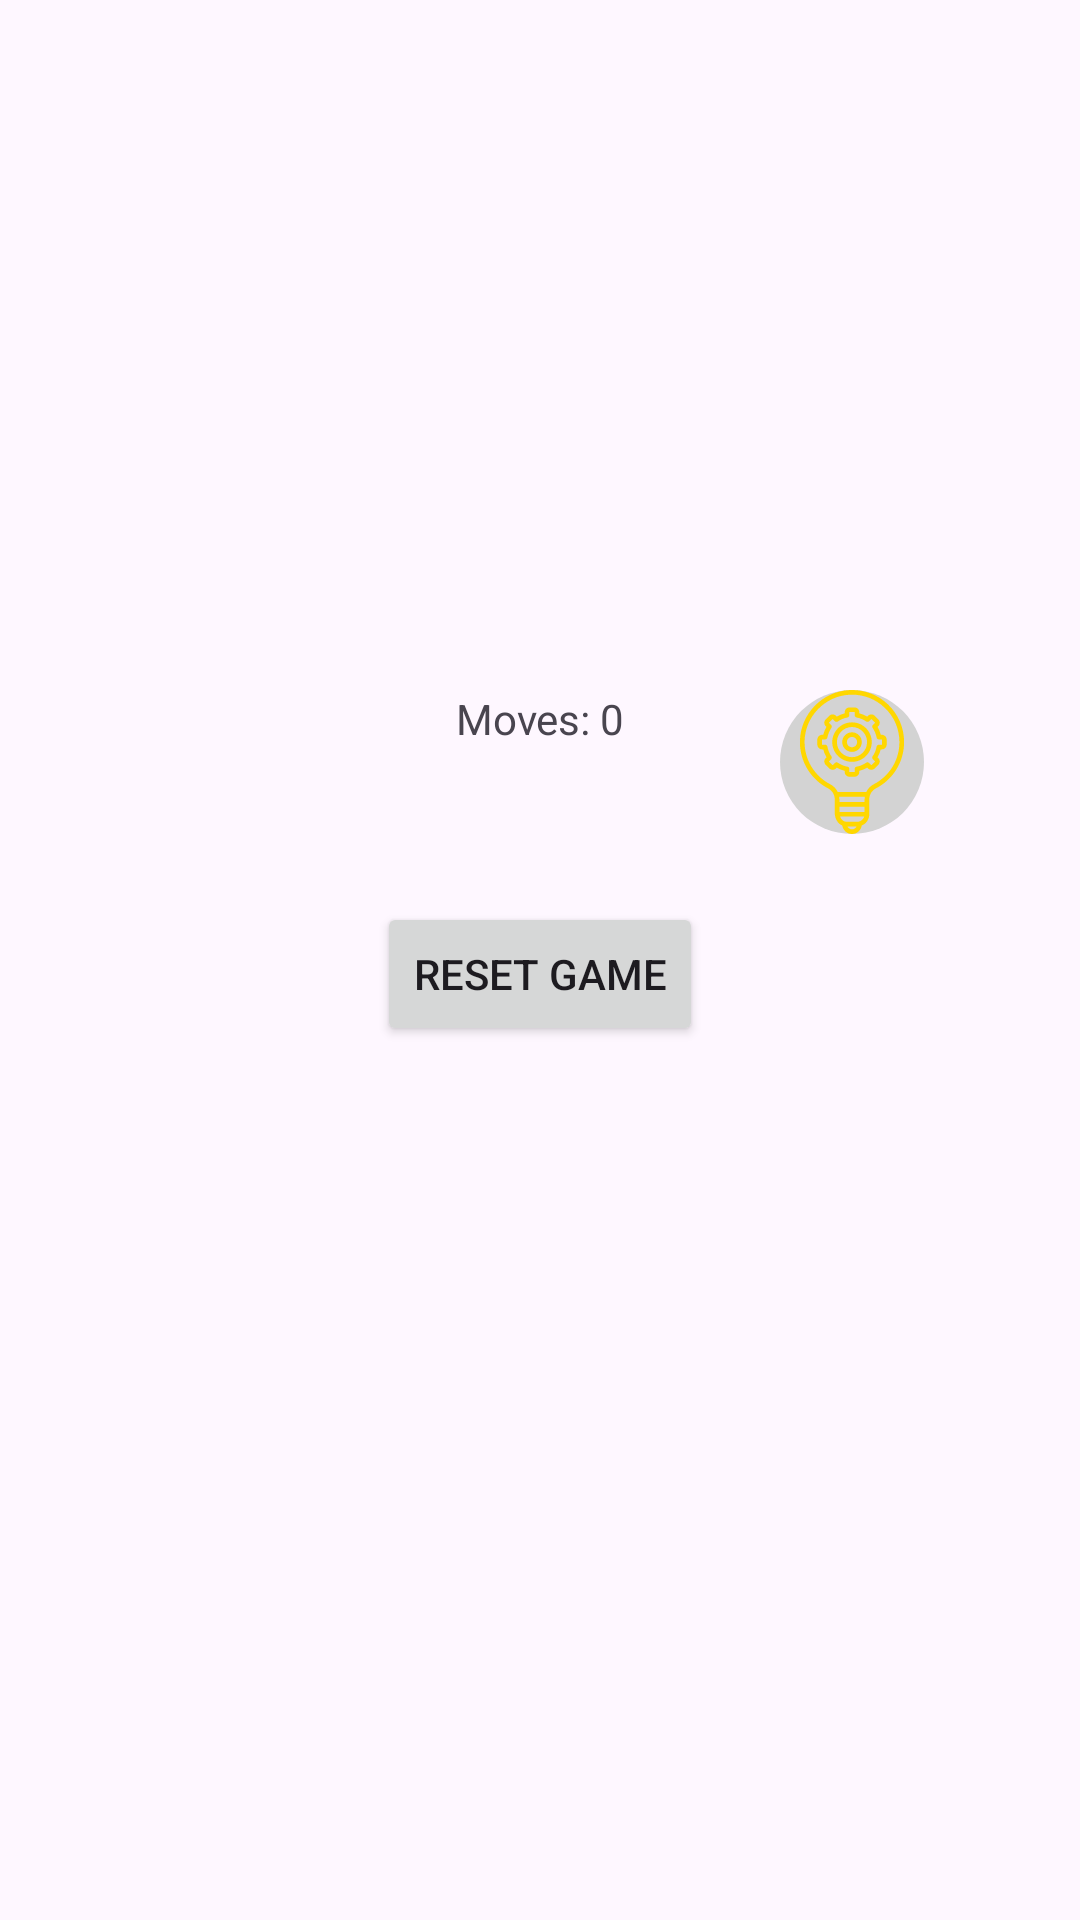

Icon bounding boxes for this 1080px×1920px phone screenshot, format (x1, y1, x2, y2):
bulb: (780, 690, 924, 834)
